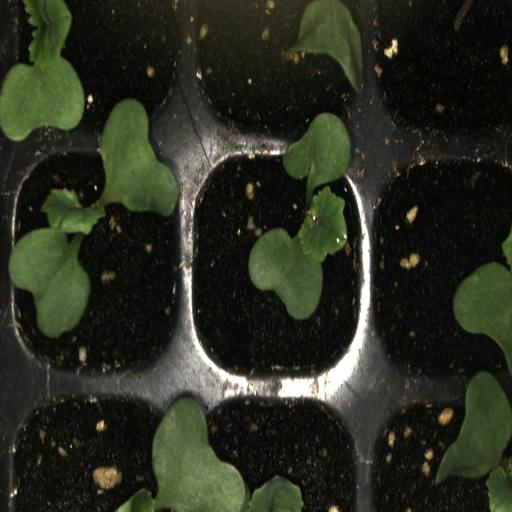Folha: (116, 396, 304, 512), (453, 235, 512, 369)
Germinacao: (10, 136, 192, 388), (190, 138, 369, 388), (6, 0, 198, 135)
